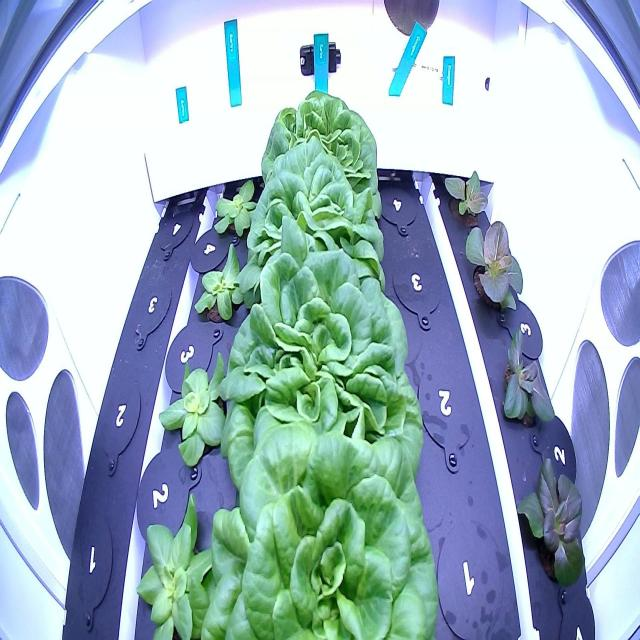Ready: (211, 241, 429, 511), (197, 403, 444, 640), (240, 133, 388, 301), (257, 80, 387, 216)
empty_pod: (433, 508, 508, 639), (415, 352, 477, 473), (65, 508, 117, 620), (92, 373, 146, 471), (390, 243, 446, 333), (127, 261, 174, 349), (376, 172, 422, 240), (155, 194, 196, 264)
young: (130, 482, 232, 639), (512, 446, 591, 604), (154, 347, 242, 476), (494, 321, 568, 435), (462, 211, 530, 325), (187, 237, 253, 331), (439, 158, 497, 240), (207, 167, 265, 246)
